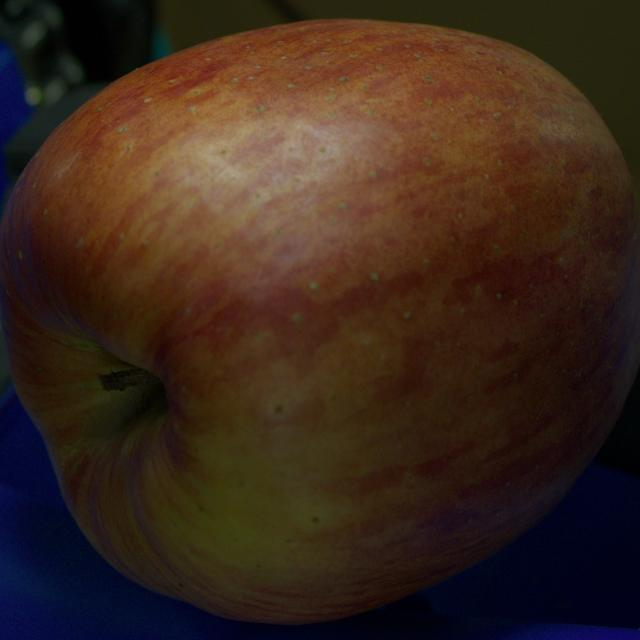apple: (0, 20, 639, 623)
